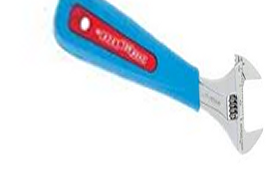wrench: (51, 1, 266, 164)
